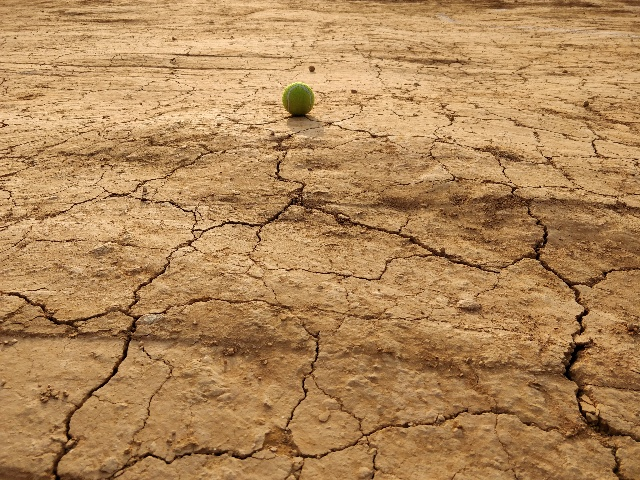ball: (275, 81, 321, 121)
